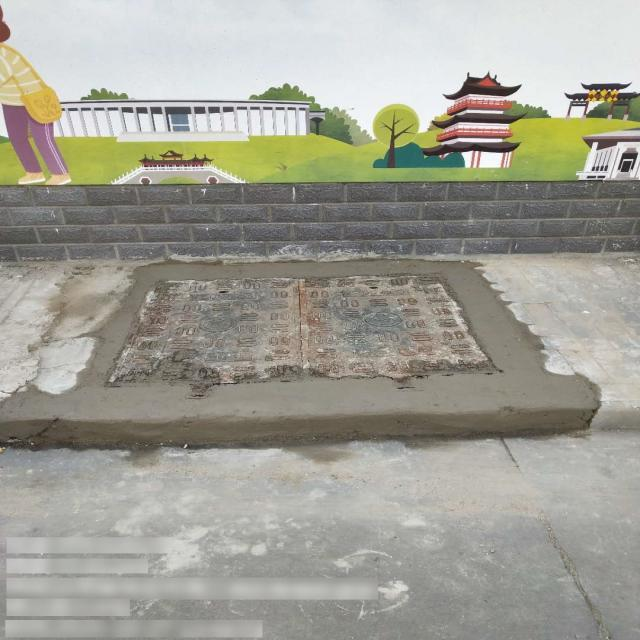Good: (94, 270, 510, 399)
